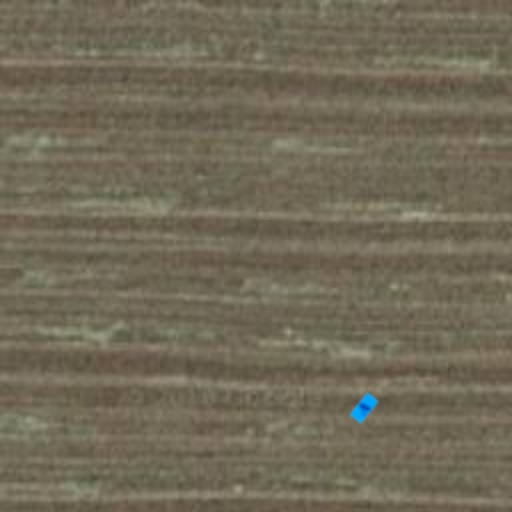rectangle: (342, 386, 386, 430)
